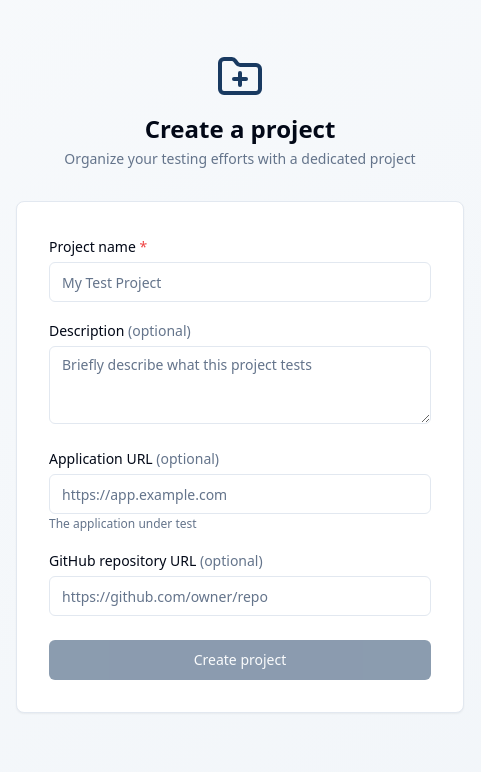
CreateProjectPage › Duplicate name error (AC6) › shows duplicate name server error when API returns DUPLICATE_SLUG
The width and height of the screenshot is (481, 772).
Type "Existing Project" into the field with test id "input-project-name" at (240,282), box [49, 262, 431, 302]
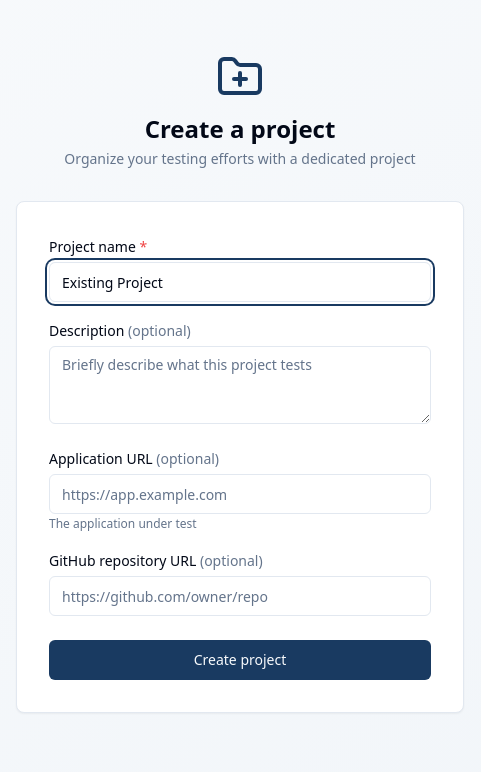
Click the button with test id "submit-btn" at (240,660), box [49, 640, 431, 680]
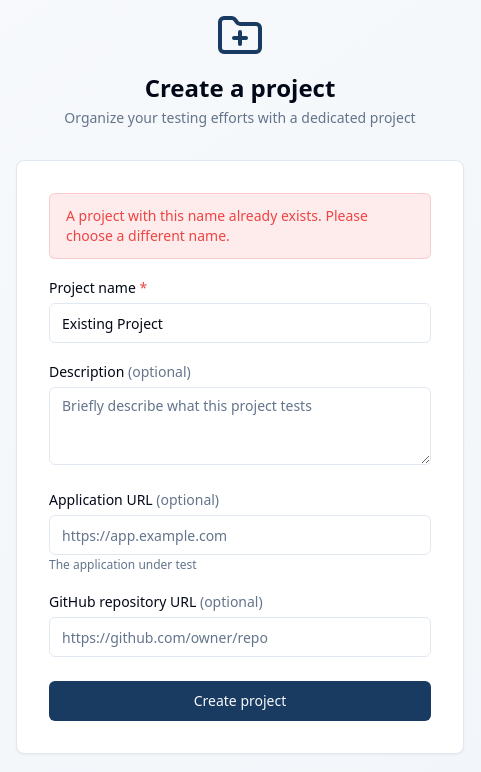
Now the message "A project with this name already exists. Please choose a different name." is shown, box [49, 193, 431, 259]
Now the message with test id "server-error" shows "already exists", box [66, 206, 368, 245]
